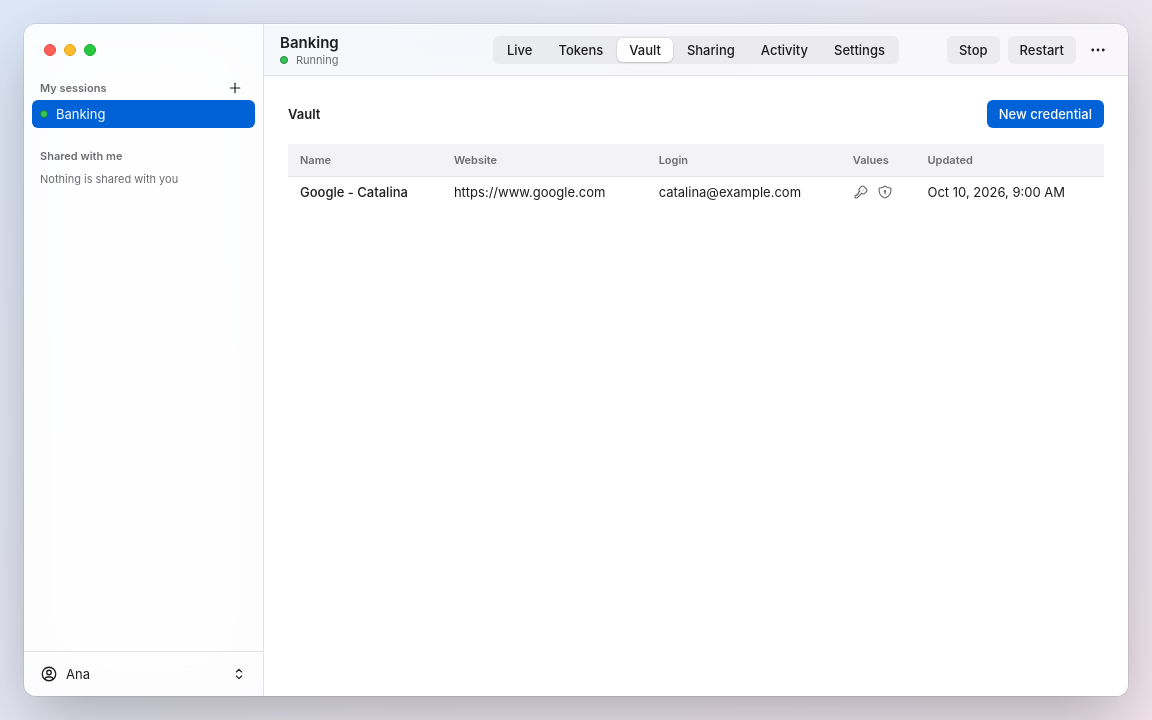
Test: Vault view › shows the current code with the countdown ring
This screenshot has width=1152, height=720.
Click the button "Google - Catalina": (354, 192) [300,183,408,201]
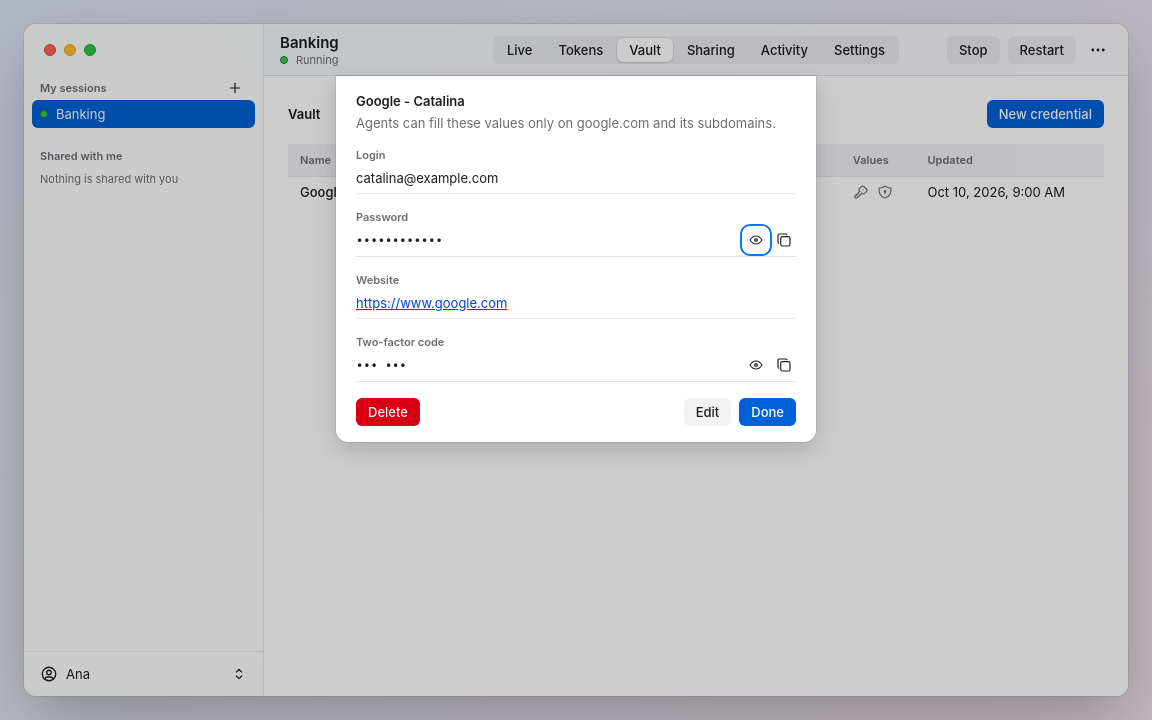
Click the button named "Show code": (756, 365) [744,353,768,377]
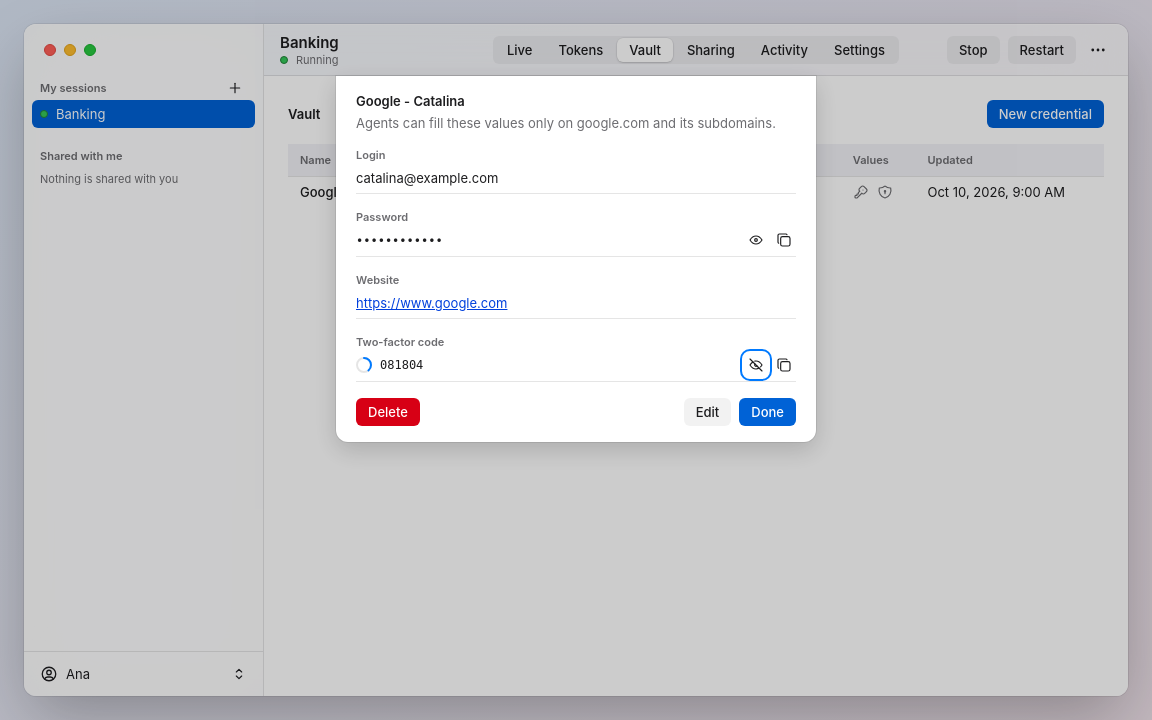
Now the text "081804" is shown, box [380,357,423,373]
Now the picture named "seconds left" is shown, box [356,357,372,373]
